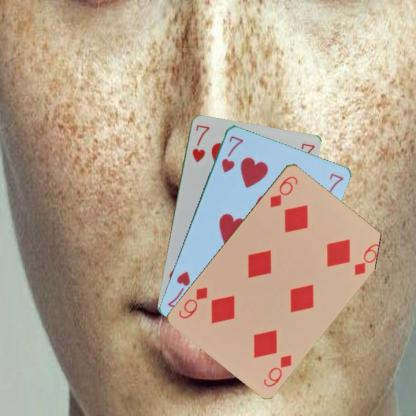6d: (267, 172, 299, 208), (261, 352, 293, 388)
7h: (218, 132, 245, 174), (189, 122, 211, 163)
